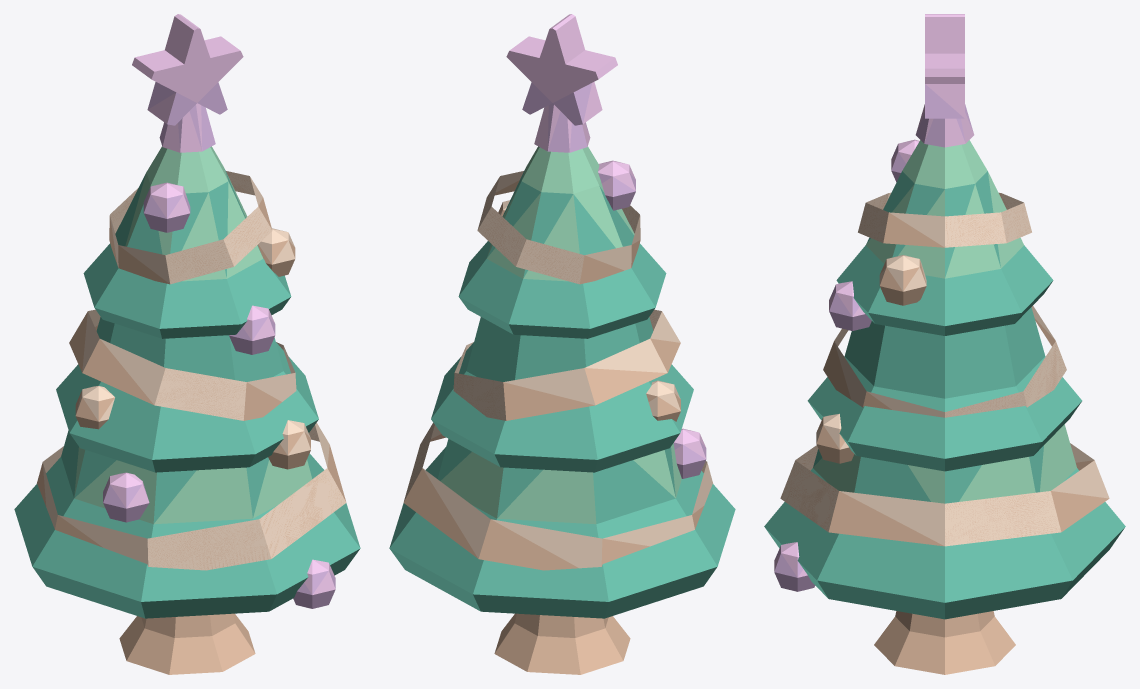
File: acc_xmas.glb
3 renders of one model, left to right at view 1: azimuth 30°, elevation 25°; view 2: azimuth 150°, elevation 25°; view 3: azimuth 270°, elevation 25°, orthographic.
Visible parts, largest first — view 1: xmas; view 2: xmas; view 3: xmas.
Part boxes in pixels (x1,y1,x2,y2): xmas: (14, 14, 360, 674); xmas: (389, 14, 735, 674); xmas: (764, 14, 1125, 674).
Bounding box in the file's own units: 0.5977 × 1.15 × 0.5977.
